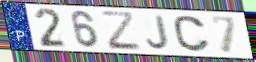2: (33, 7, 68, 48)
6: (70, 9, 101, 49)
7: (210, 15, 238, 55)
C: (171, 14, 212, 53)
J: (145, 14, 170, 51)
Z: (99, 11, 144, 52)
